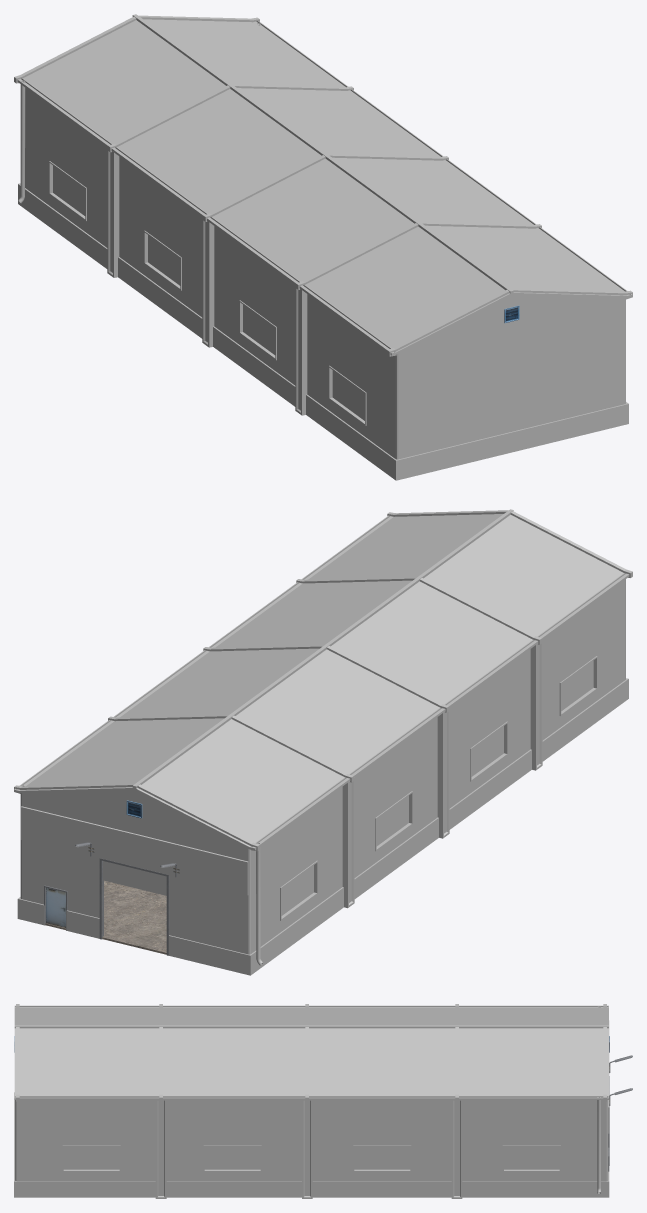
Rendered from warehouse.FBX.
3 views of the same model, one above another, from view 1: azimuth 30°, elevation 25°; view 2: azimuth 150°, elevation 25°; view 3: azimuth 270°, elevation 25° (orthographic). The views are drawn at different scales.
Parts seen in each view (by area): view 1: texture1, texture2; view 2: texture1, texture2, texture3, texture4; view 3: texture1, texture2, texture4.
Part boxes in pixels (x1=…): texture1: x1=18, y1=19, x2=628, y2=480; texture2: x1=14, y1=14, x2=632, y2=425; texture1: x1=17, y1=514, x2=628, y2=975; texture2: x1=14, y1=509, x2=632, y2=965; texture3: x1=45, y1=880, x2=166, y2=954; texture4: x1=44, y1=800, x2=179, y2=955; texture1: x1=14, y1=1007, x2=609, y2=1197; texture2: x1=14, y1=1004, x2=608, y2=1198; texture4: x1=14, y1=1036, x2=632, y2=1171.
Size of the model in its own units: 268 by 169 by 749.
